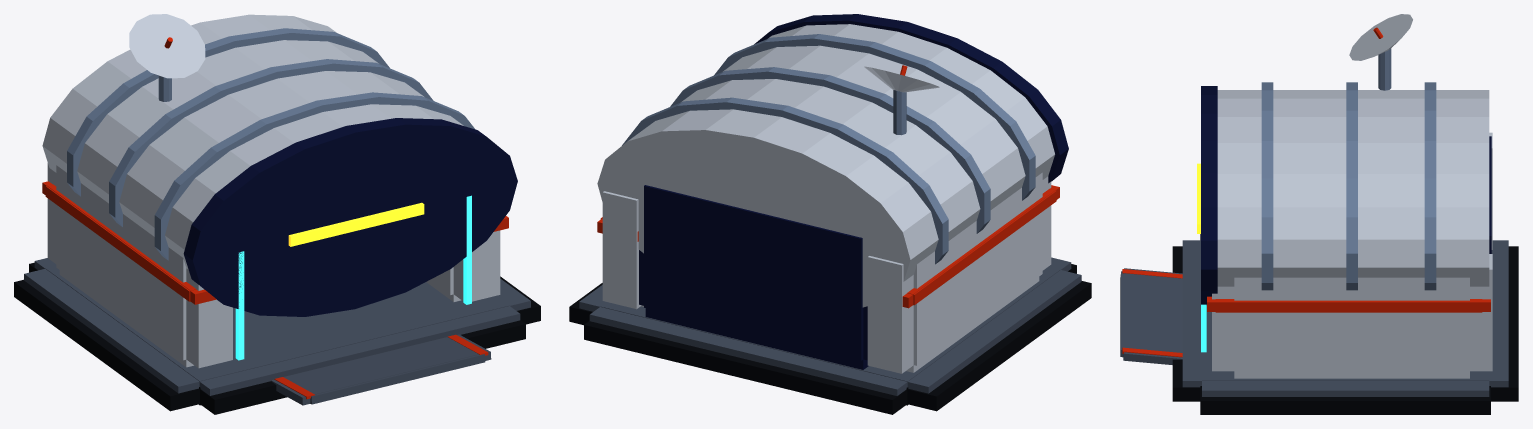
Rendered from earth_suit_hangar.glb.
The picture shows the model from 3 angles, left to right: view 1: azimuth 30°, elevation 25°; view 2: azimuth 150°, elevation 25°; view 3: azimuth 270°, elevation 25°; orthographic projection. The views are drawn at different scales.
Parts seen in each view (by area): view 1: SuitHangarBody, SpinRadar, SuitHangarGlow; view 2: SuitHangarBody, SpinRadar; view 3: SuitHangarBody, SpinRadar, SuitHangarGlow.
Part boxes in pixels (bbox=[...]): SuitHangarBody: bbox=[14, 14, 540, 414]; SpinRadar: bbox=[129, 14, 205, 78]; SuitHangarGlow: bbox=[235, 195, 471, 360]; SuitHangarBody: bbox=[569, 14, 1091, 414]; SpinRadar: bbox=[864, 65, 939, 92]; SuitHangarBody: bbox=[1120, 48, 1518, 414]; SpinRadar: bbox=[1349, 14, 1412, 60]; SuitHangarGlow: bbox=[1197, 163, 1206, 352].
Size of the model in its own units: 12.2 by 9.17 by 12.21.
